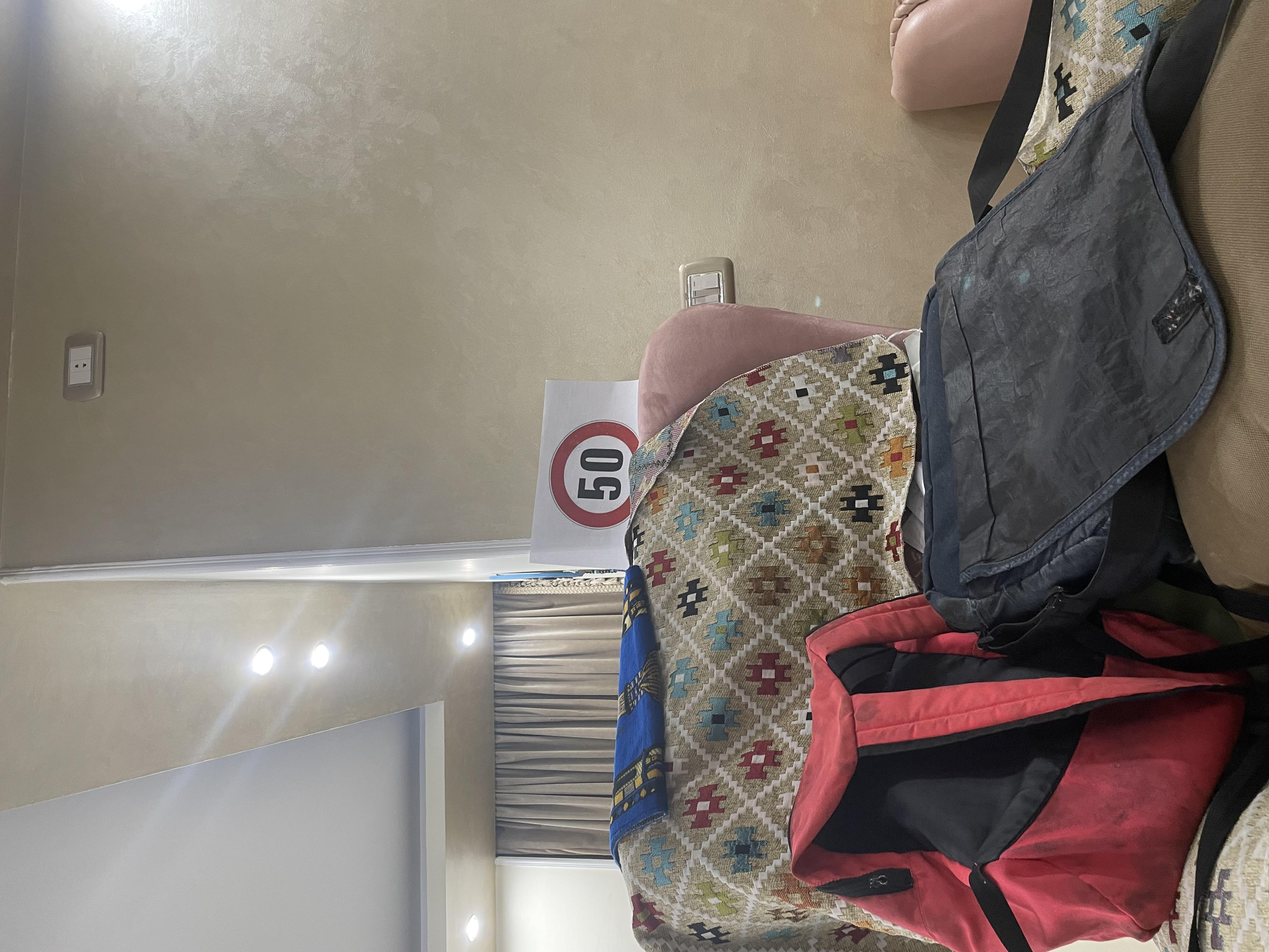50-Speed: (568, 406, 710, 481)
